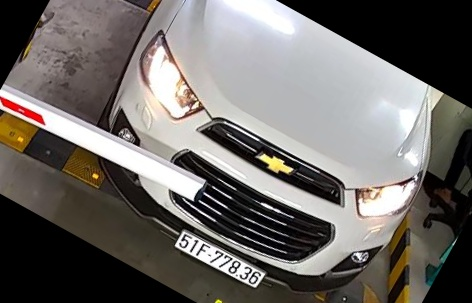plate: (170, 225, 274, 290)
